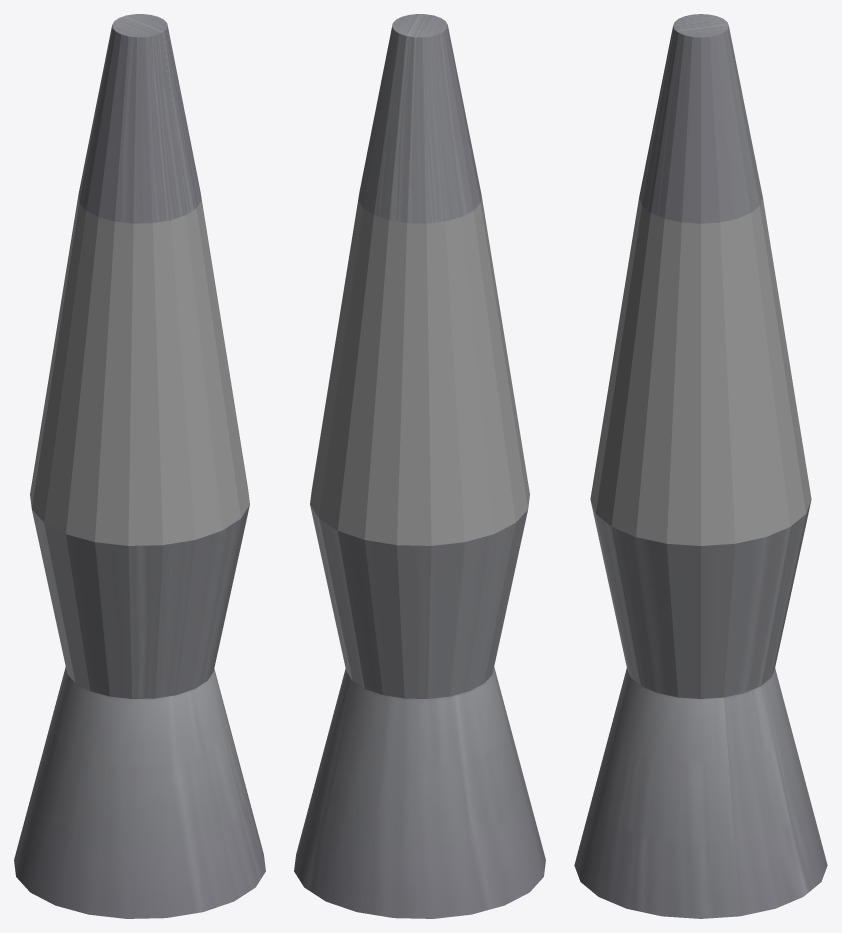
The model's file is LavaLamp.fbx.
3 views of the same model, side by side, from view 1: azimuth 30°, elevation 25°; view 2: azimuth 150°, elevation 25°; view 3: azimuth 270°, elevation 25° (orthographic).
Visible parts, largest first — view 1: Bottom2, Middle, Top2; view 2: Bottom2, Middle, Top2; view 3: Bottom2, Middle, Top2.
Part boxes in pixels (x1,y1,x2,y2): Bottom2: (14, 505, 265, 918); Middle: (30, 196, 249, 545); Top2: (78, 14, 201, 223); Bottom2: (294, 505, 545, 918); Middle: (310, 196, 529, 545); Top2: (358, 14, 481, 223); Bottom2: (574, 501, 827, 918); Middle: (590, 198, 811, 545); Top2: (639, 14, 762, 223).
Bounding box in the file's own units: 0.02 × 0.0732 × 0.02.
2 materials, 1 textured.
